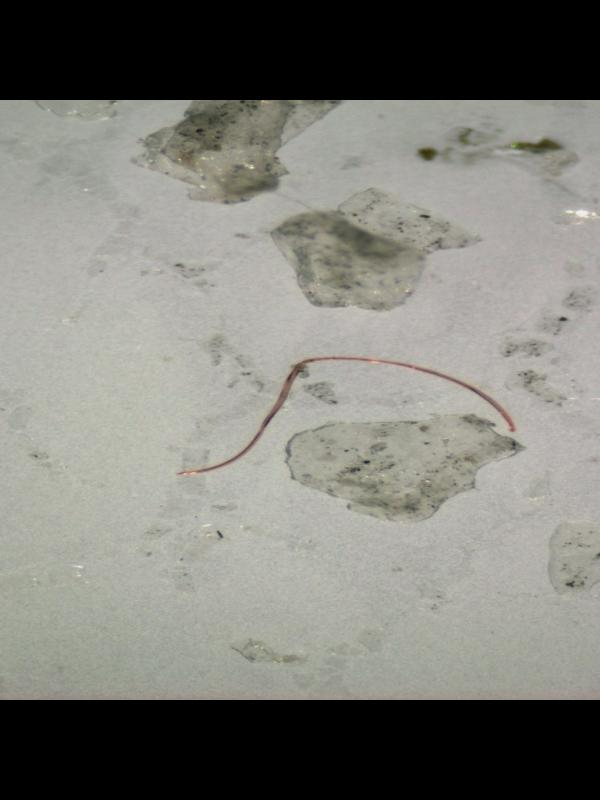microplastic: (172, 356, 524, 524)
